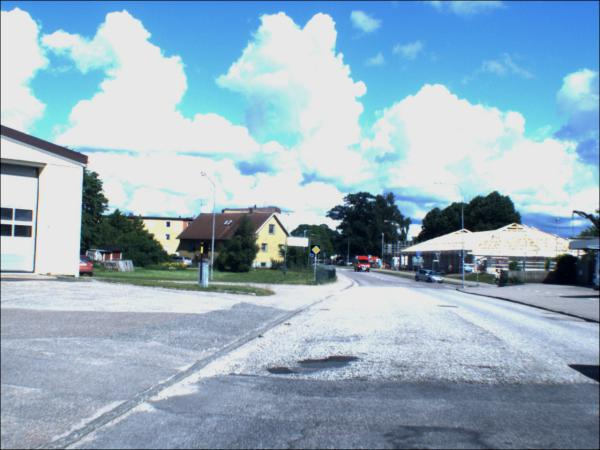PEDESTRIAN_CROSSING: (369, 256, 373, 260), (311, 255, 314, 259)
PRIORITY_ROAD: (311, 246, 321, 256), (330, 257, 335, 261)
